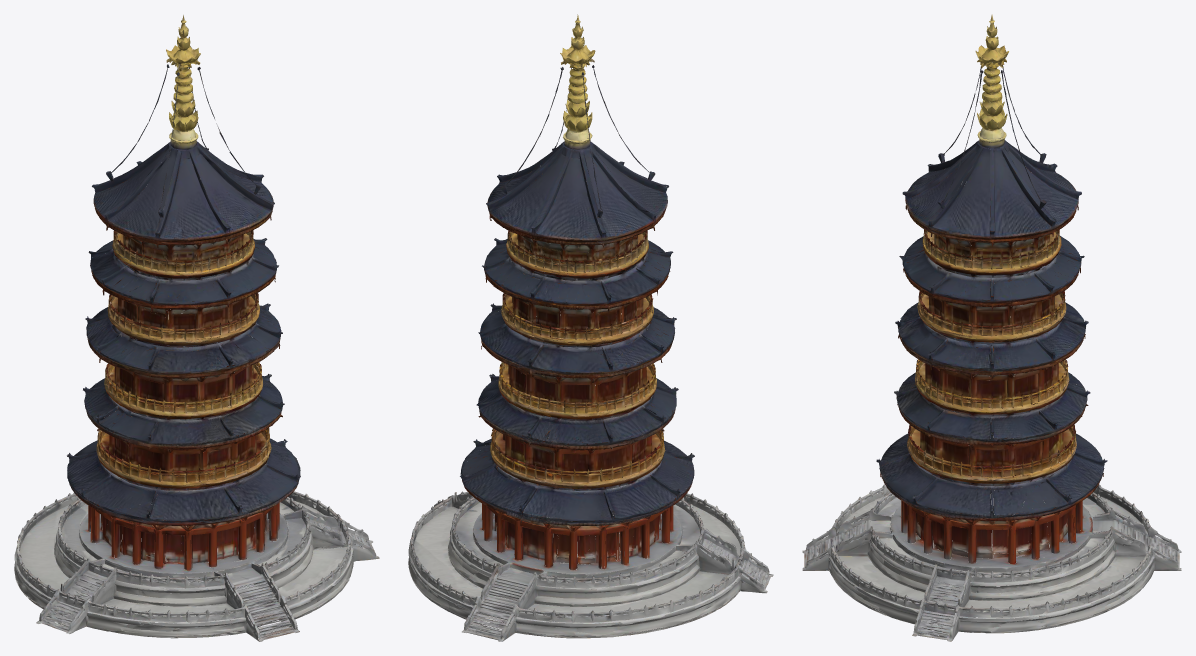
The model's file is tiantang.glb.
3 renders of one model, left to right at view 1: azimuth 30°, elevation 25°; view 2: azimuth 150°, elevation 25°; view 3: azimuth 270°, elevation 25°, orthographic.
Visible parts, largest first — view 1: node_0; view 2: node_0; view 3: node_0.
Part boxes in pixels (x1,y1,x2,y2): node_0: (14, 15, 379, 641); node_0: (408, 14, 773, 641); node_0: (802, 14, 1181, 641).
Size of the model in its own units: 56.08 by 88.22 by 55.34.
Materials: 1 (1 with a texture image).
